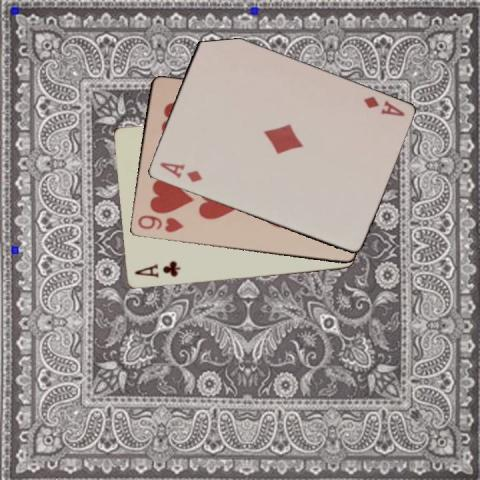9h: (134, 212, 185, 234)
Ac: (132, 259, 182, 280)
Ad: (156, 159, 204, 184), (360, 93, 405, 118)
